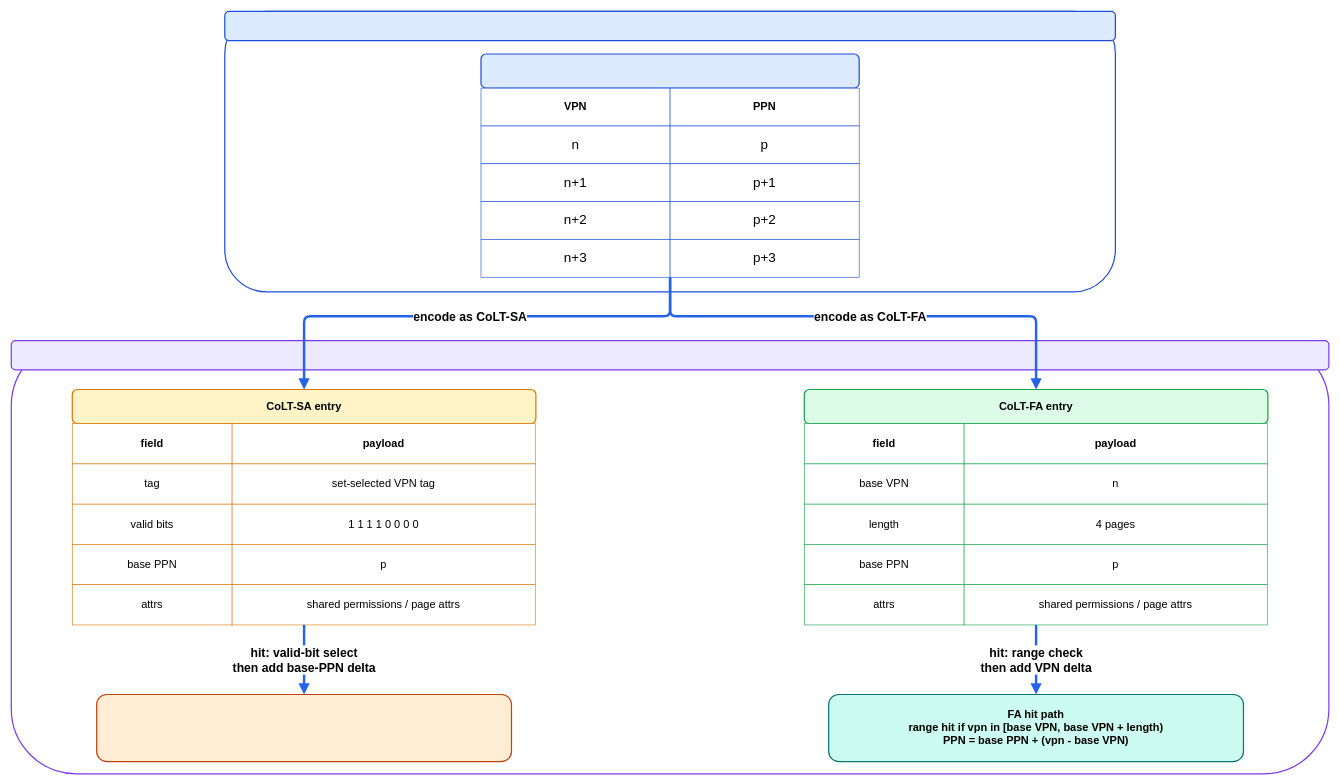
The diagram is 1340 pixels wide and 784 high, and some of its shapes have lost their labels. The shapes that lost their labels are listed below. From the top down, each one's centre as x and y in pixels, then its label:
the point at 670,25: Source Bundle
the point at 669,70: source translation run
the point at 669,355: Alternative Encodings
the point at 304,728: SA hit path select valid-bit slot PPN = base PPN + offset_from_first_valid
